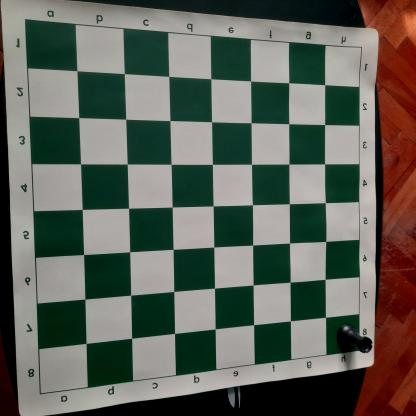black-rook: (334, 324, 375, 355)
